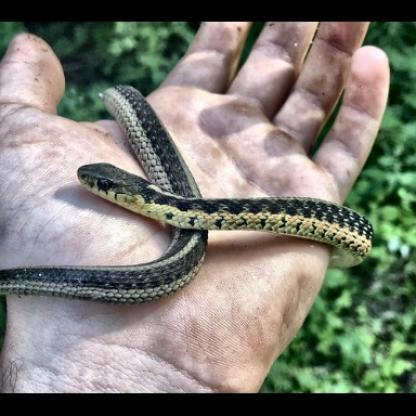Snake: (74, 85, 376, 274)
